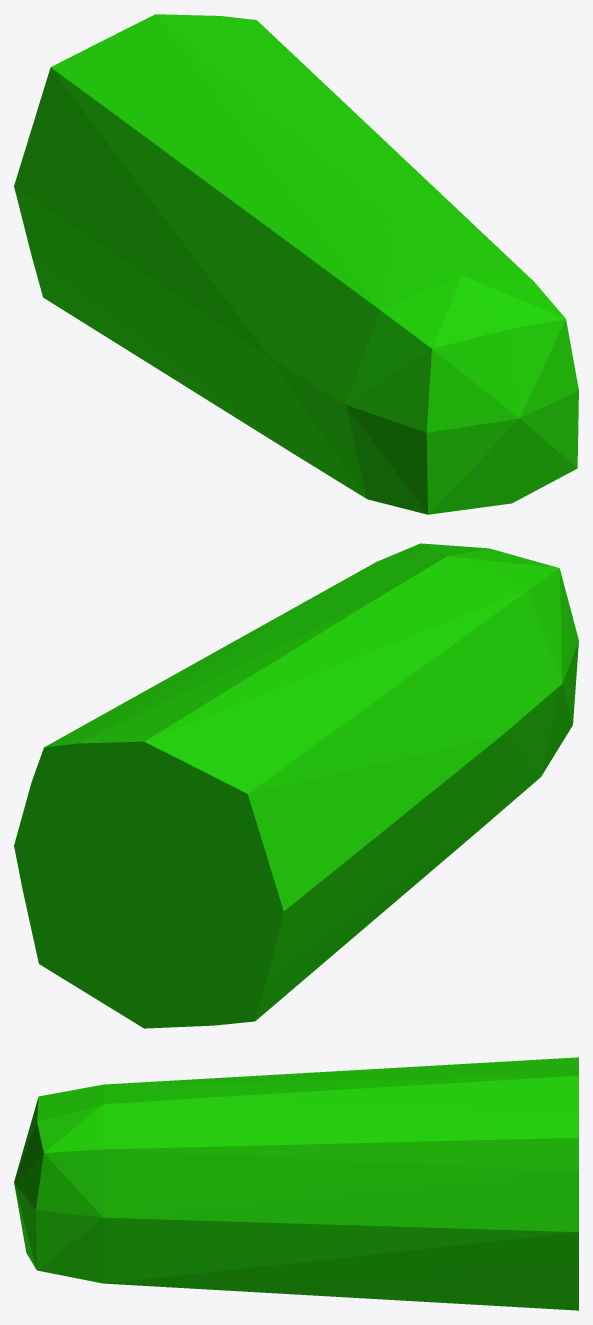
3 renders of one model, top to bottom at view 1: azimuth 30°, elevation 25°; view 2: azimuth 150°, elevation 25°; view 3: azimuth 270°, elevation 25°, orthographic. The views are drawn at different scales.
Size of the model in its own units: 2 by 2.03 by 4.62.
